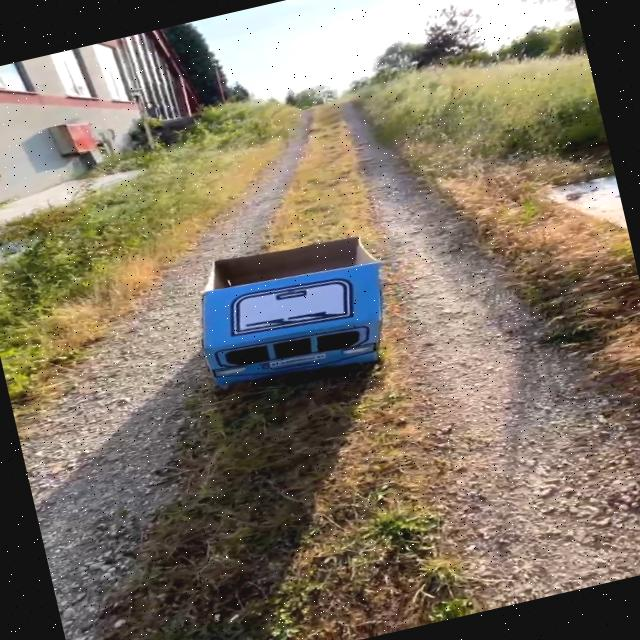blue_car: (117, 190, 473, 446)
